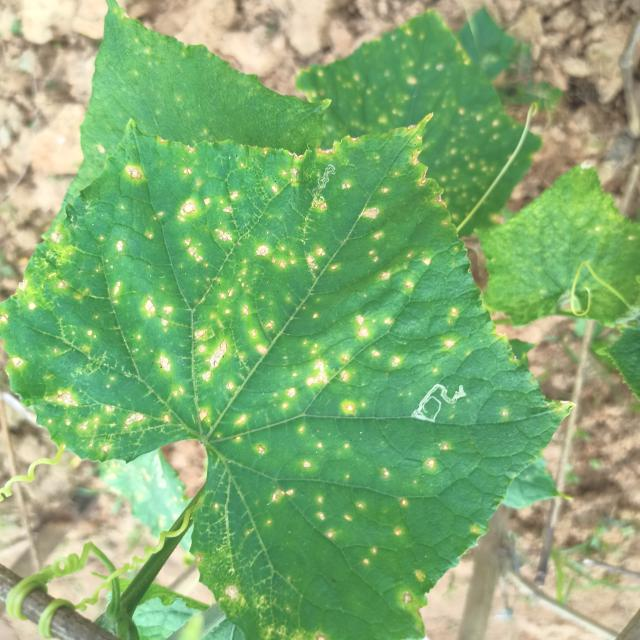disease_cucumber: (52, 131, 476, 605)
